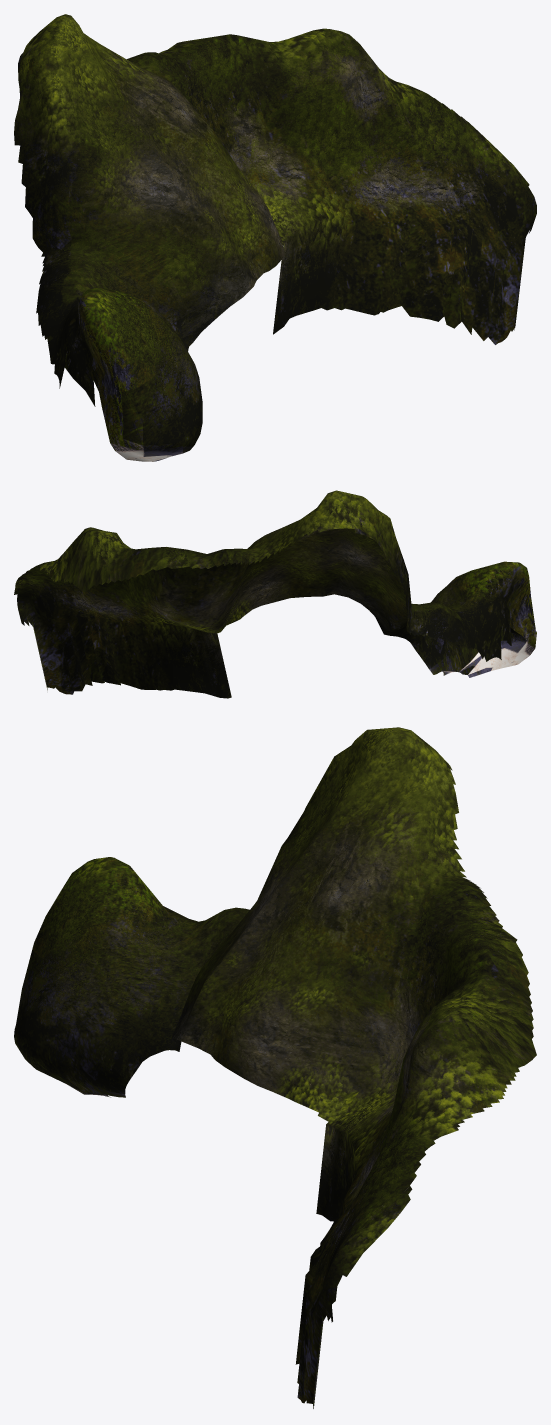
Rendered from mdl_franch_mountain.gltf.
3 views of the same model, one above another, from view 1: azimuth 30°, elevation 25°; view 2: azimuth 150°, elevation 25°; view 3: azimuth 270°, elevation 25° (orthographic). The views are drawn at different scales.
Visible parts, largest first — view 1: mountains; view 2: mountains; view 3: mountains.
Boxes of the visible parts, left/top/right/bottom form: mountains: left=14, top=14, right=536, bottom=461; mountains: left=14, top=490, right=536, bottom=698; mountains: left=14, top=727, right=536, bottom=1408.
Bounding box in the file's own units: 15.29 × 10.26 × 10.78.
1 material, 1 textured.
